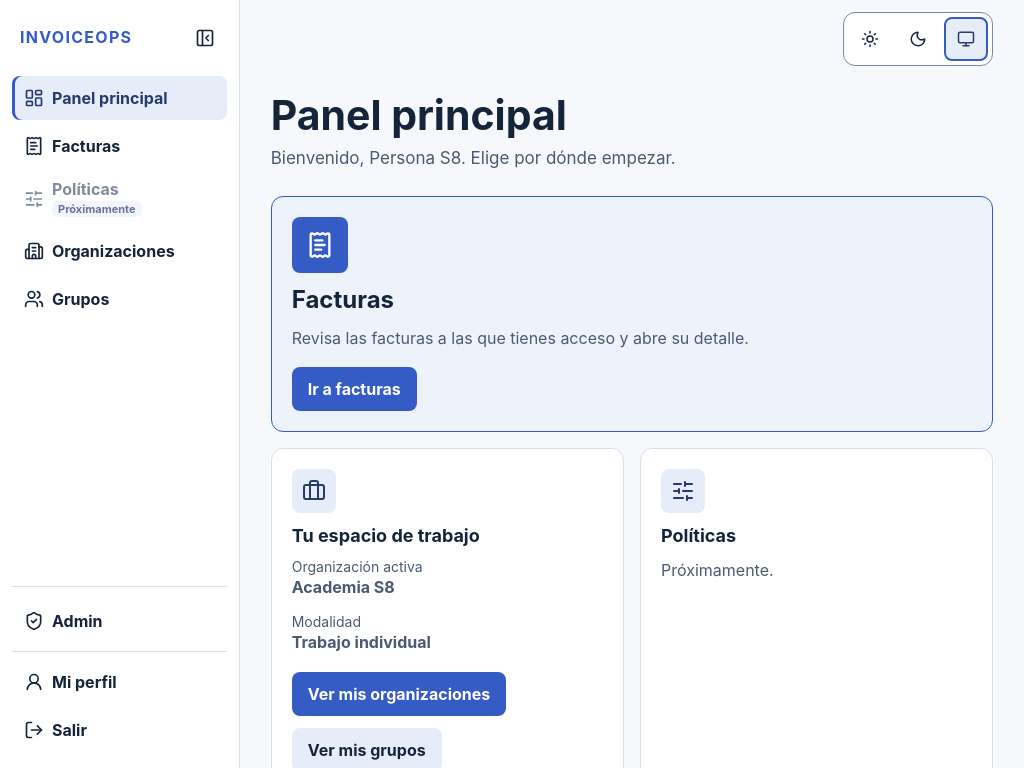
Scenario: APP12 S8 global acceptance characterization › mounts the real Mi perfil surface with Spanish landmarks and valid accessible references
Expected: the text "Bienvenido, Persona S8. Elige por dónde empezar." is shown, [271,148,676,168]
Click the link "Mi perfil" at (70, 682), box [24,672,117,692]
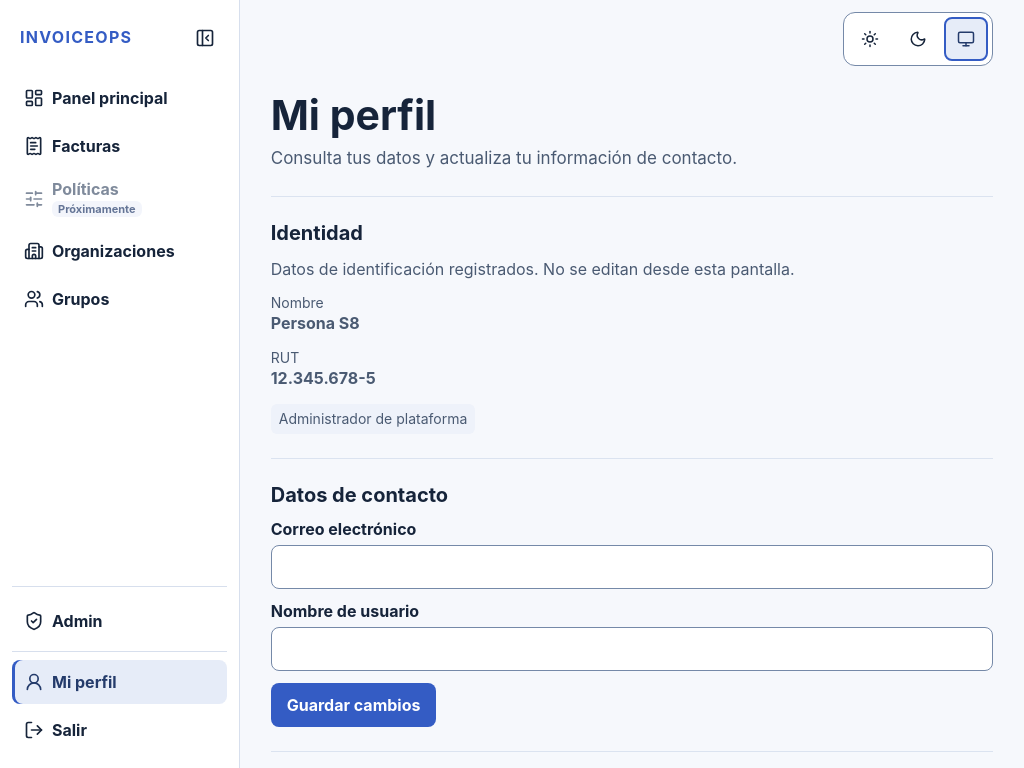
Result: the heading "Mi perfil" is shown at [271,90,436,140]
Result: the heading "Datos de contacto" is shown at [271,483,448,507]
Result: the heading "Tu espacio de trabajo" is gone
Type "persona-s8" into the field labelled "Nombre de usuario" at (632, 649), box [271,627,993,671]
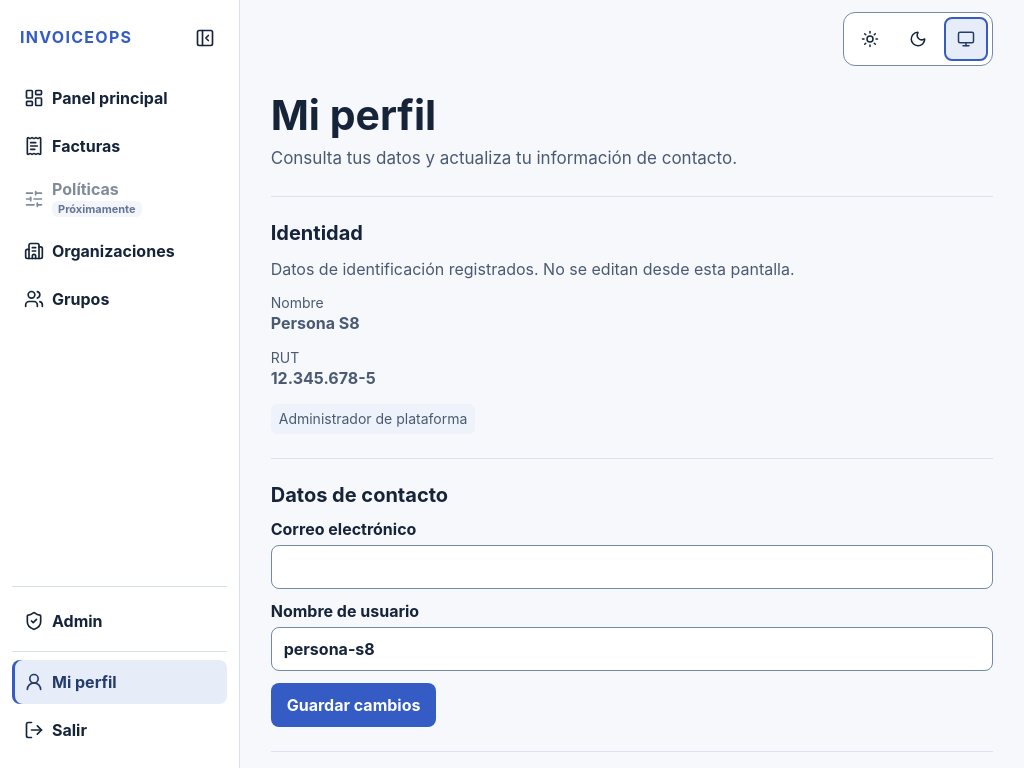
Click the button "Guardar cambios" at (354, 705), box [271,683,436,727]
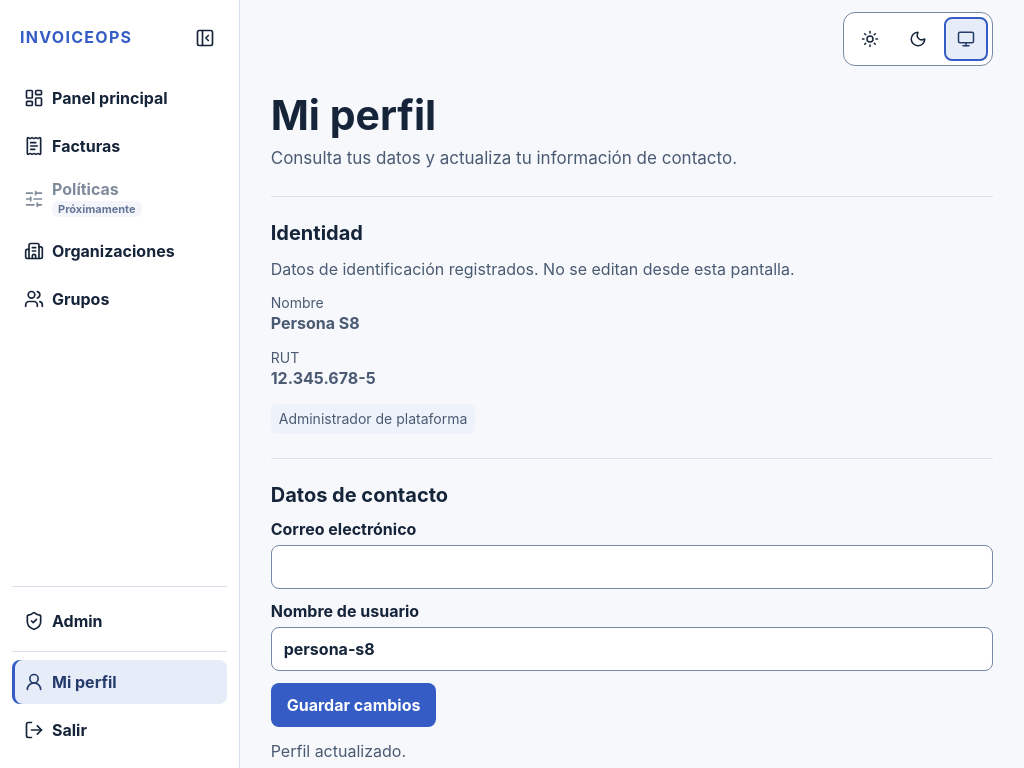
Result: the text "Perfil actualizado." is shown at [271,741,406,761]
